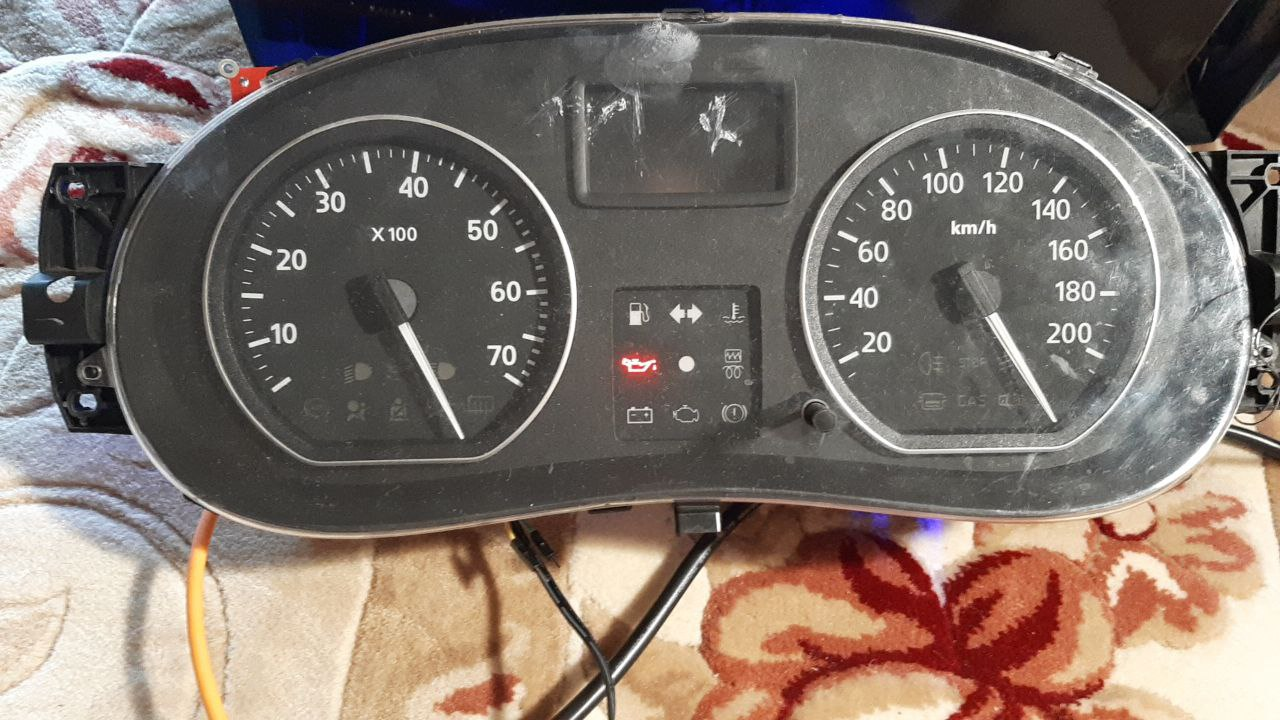oil: (620, 354, 657, 376)
